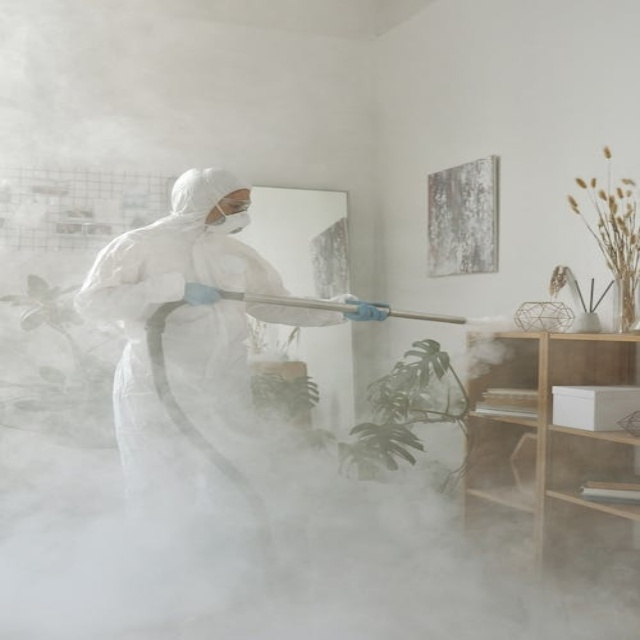Gafas: (221, 199, 252, 214)
Guantes: (184, 281, 223, 305), (342, 303, 388, 323)
Mascara: (211, 204, 252, 235)
